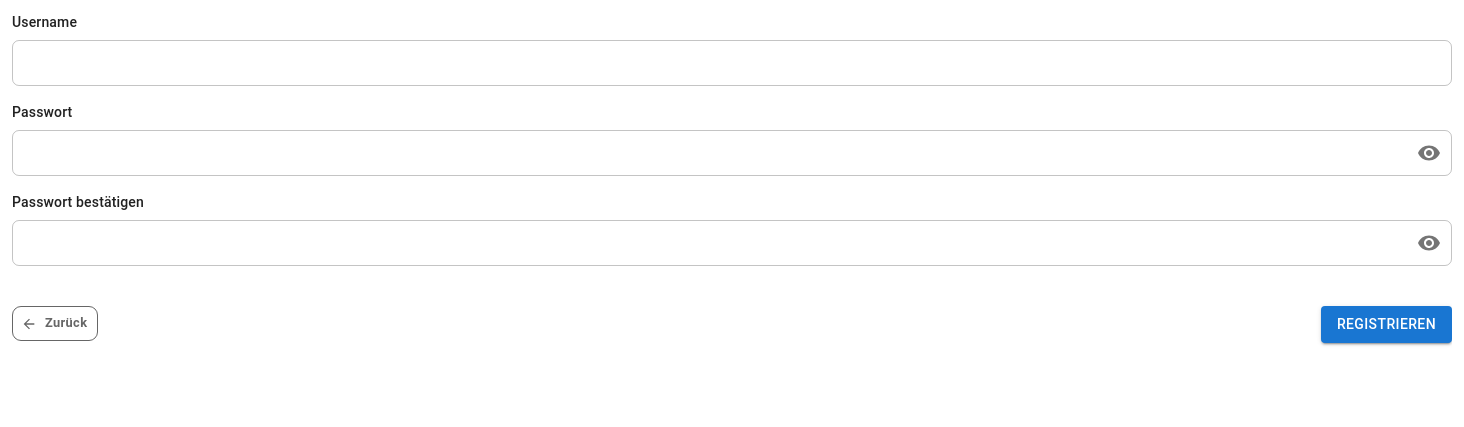
Test: shows error when passwords do not match
Type "validuser" into the field named "Username". click: (732, 63)
box: x1=12 y1=45 x2=1452 y2=81
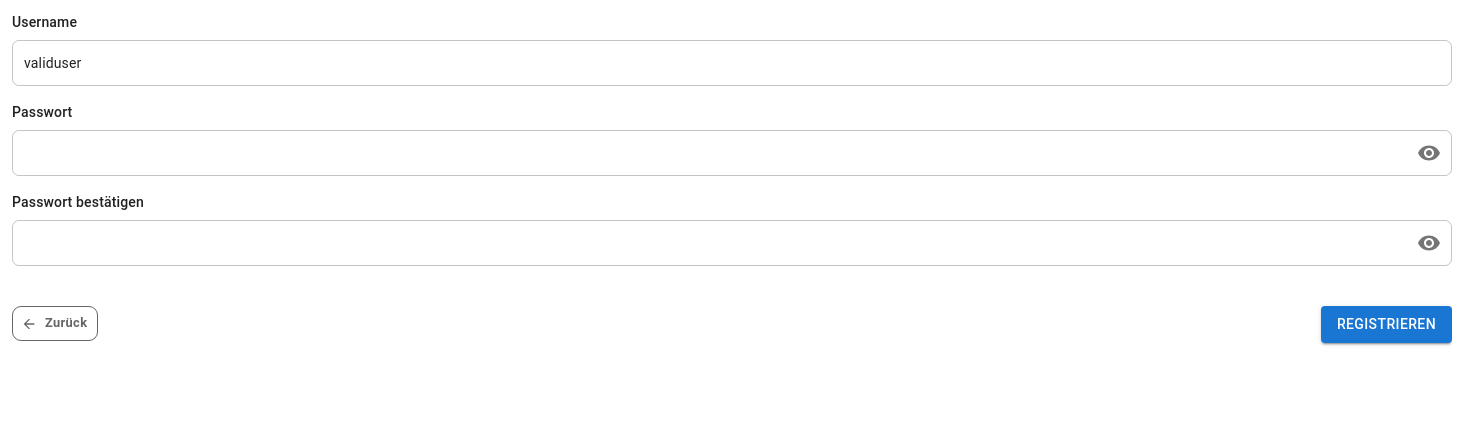
Type "Password123!" into the password field named "Password". click: (708, 153)
box: x1=12 y1=135 x2=1404 y2=171
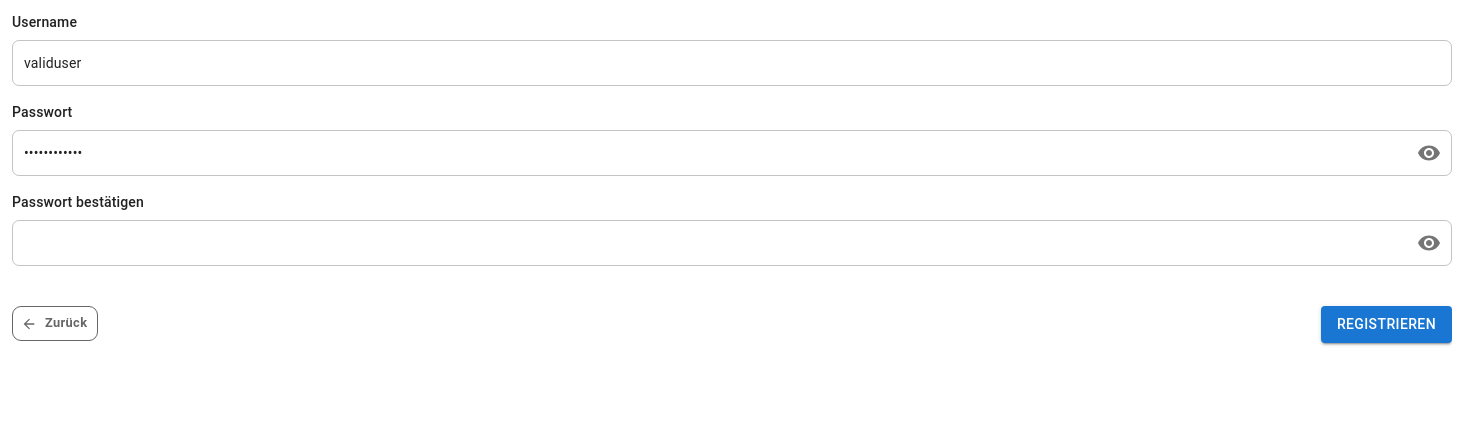
Type "OtherPassword!" into the password field named "Password-Confirm". click: (708, 243)
box: x1=12 y1=225 x2=1404 y2=261
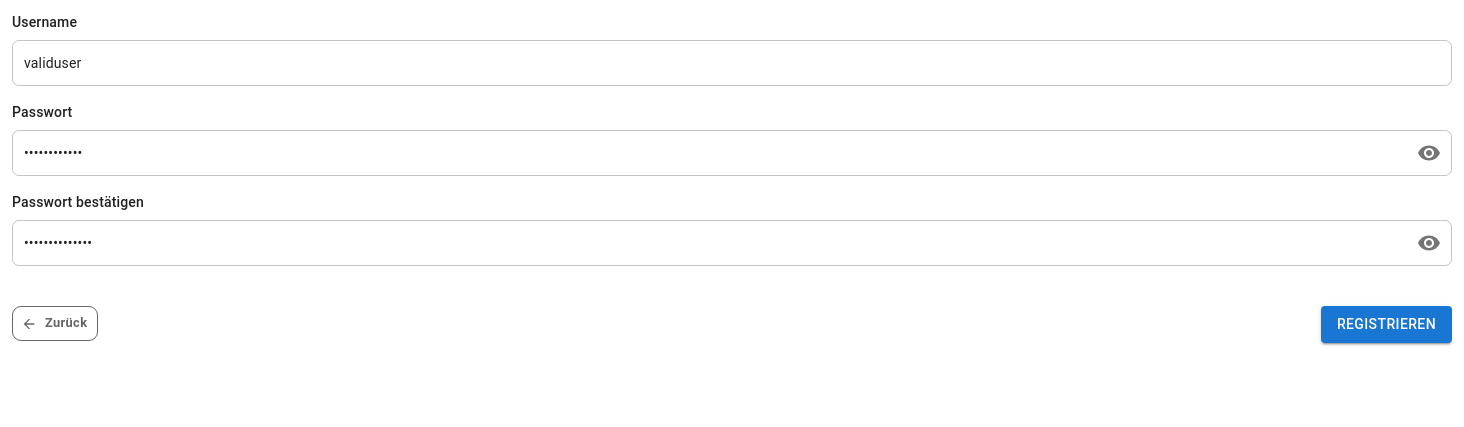
Click the button "Registrieren". click: (1386, 324)
box: x1=1321 y1=306 x2=1452 y2=342
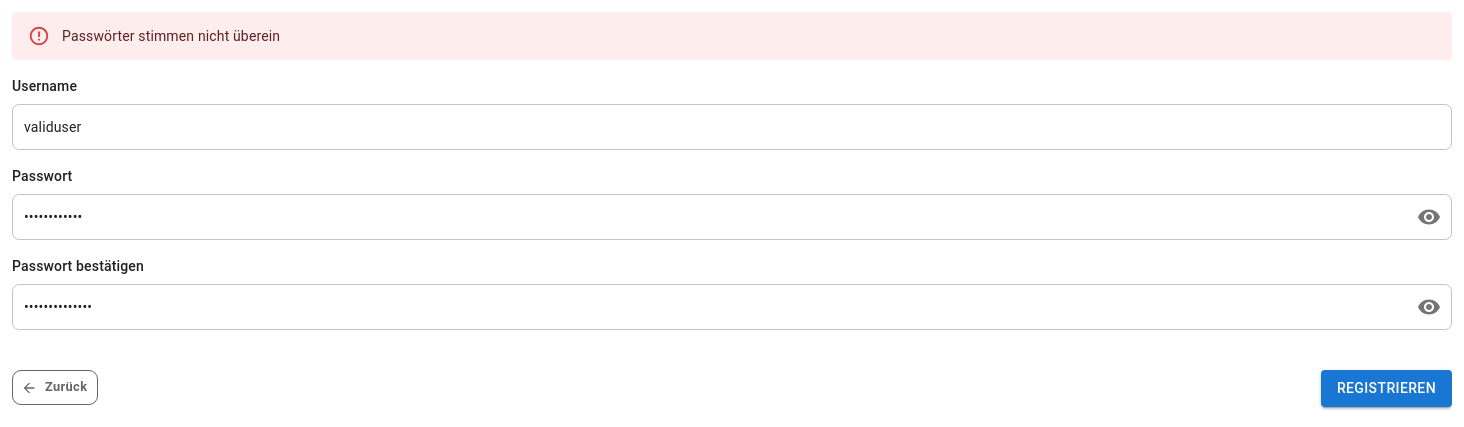
Result: the text "Passwörter stimmen nicht überein" is shown at x1=62 y1=28 x2=280 y2=44
